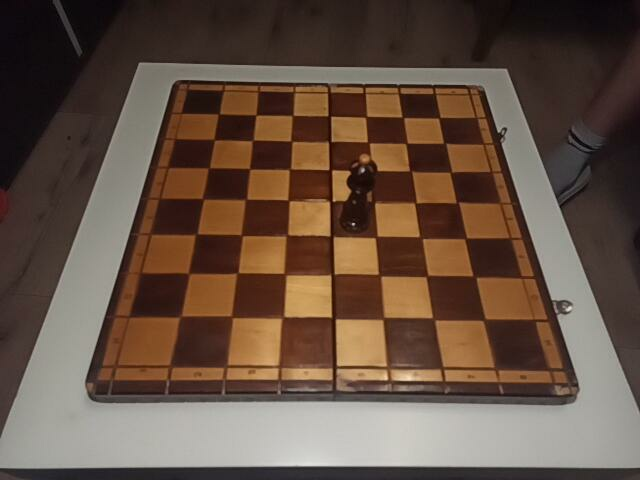B-Queen: (341, 154, 378, 235)
